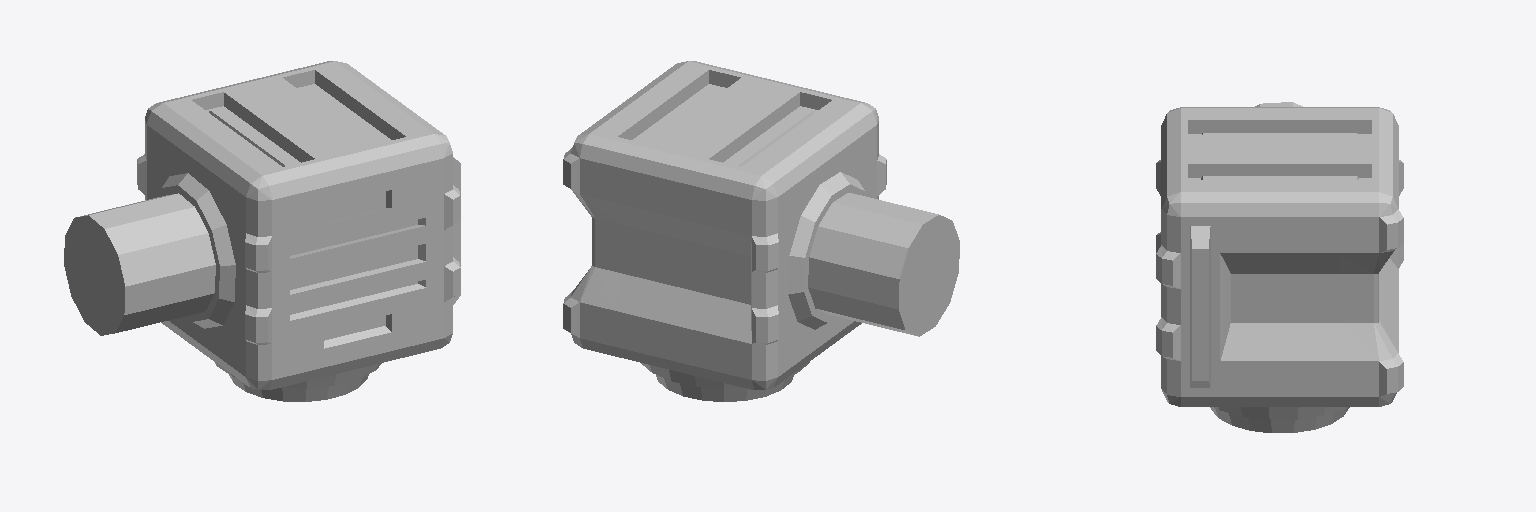
Rendered from arm_l_01.obj.
3 renders of one model, left to right at view 1: azimuth 30°, elevation 25°; view 2: azimuth 150°, elevation 25°; view 3: azimuth 270°, elevation 25°, orthographic.
Visible parts, largest first — view 1: arm_l_01_Cube.005; view 2: arm_l_01_Cube.005; view 3: arm_l_01_Cube.005.
Boxes of the visible parts, box(x1,y1,x2,y2) form: arm_l_01_Cube.005: box(64, 61, 460, 401); arm_l_01_Cube.005: box(563, 61, 959, 401); arm_l_01_Cube.005: box(1156, 102, 1403, 432).
Size of the model in its own units: 0.4414 by 0.3324 by 0.2929.